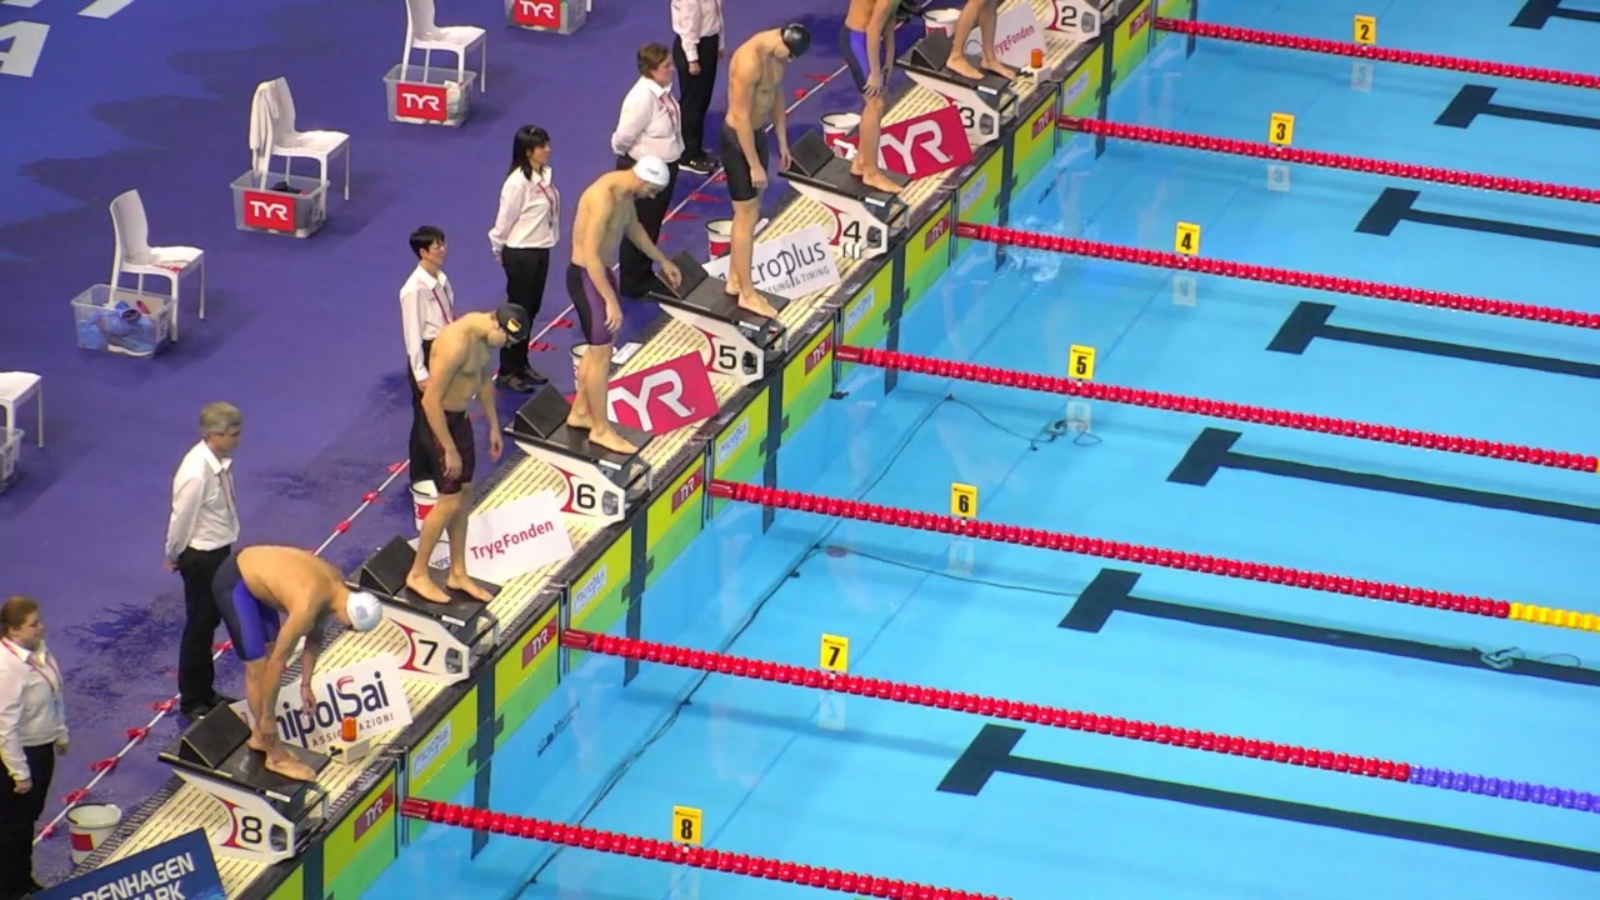swimmerw: (203, 545, 381, 788), (574, 157, 673, 453), (718, 16, 807, 312), (407, 311, 491, 611), (849, 1, 909, 197)
